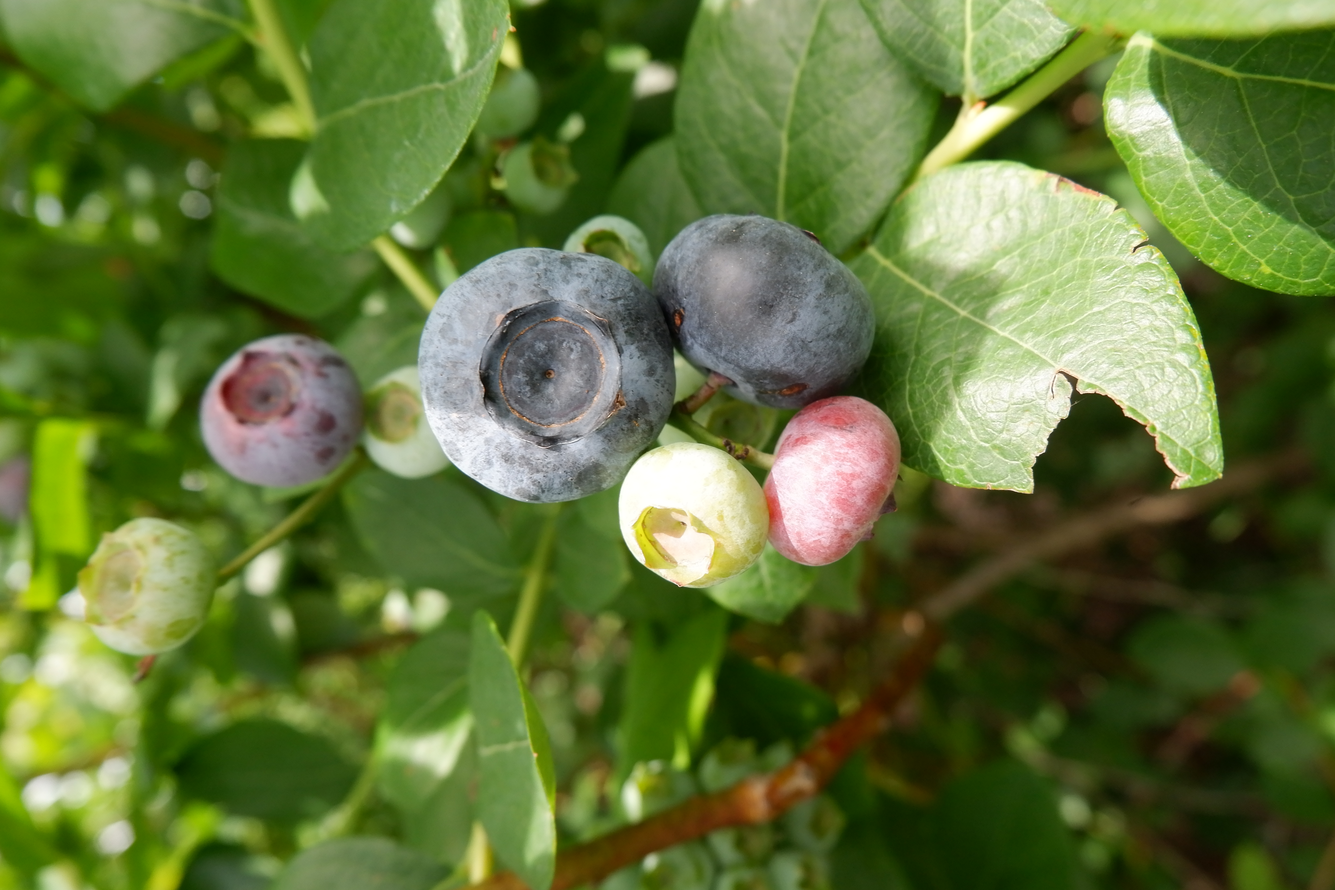Immature: (200, 338, 362, 487), (765, 395, 898, 563), (620, 444, 767, 585), (80, 521, 213, 657), (658, 350, 779, 466), (364, 374, 450, 477), (565, 215, 652, 293)
Mature: (417, 247, 672, 503), (656, 216, 875, 402)
